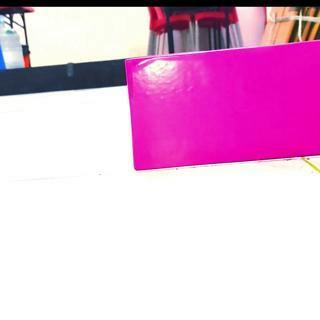xparking: (131, 58, 320, 163)
